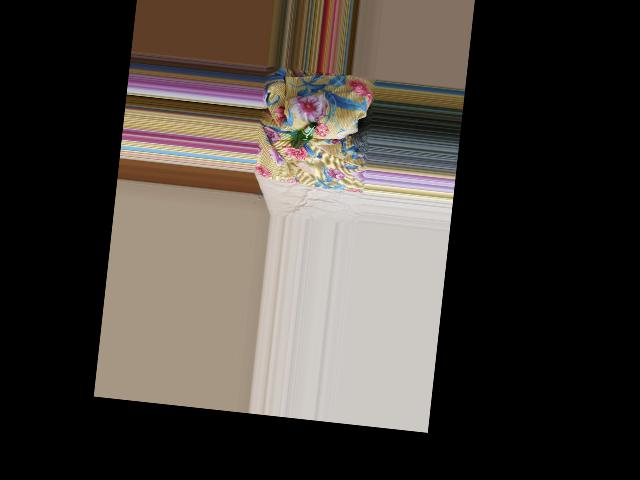beer: (290, 118, 317, 150)
